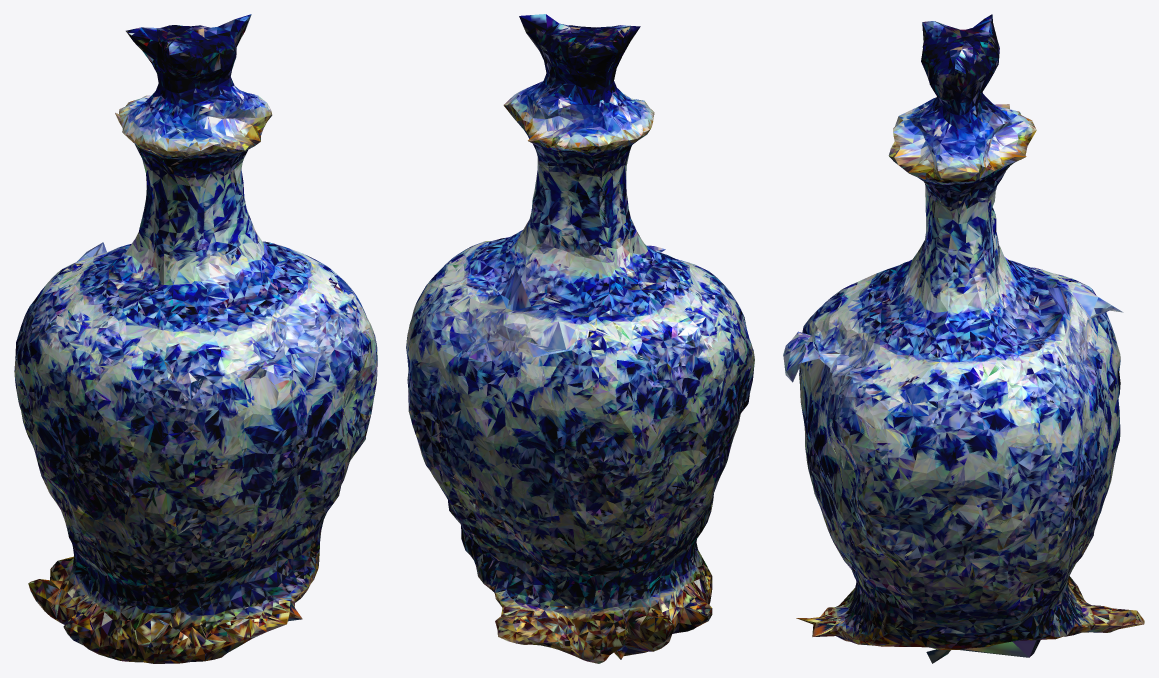
File: porcelain-scribble.glb
3 views of the same model, side by side, from view 1: azimuth 30°, elevation 25°; view 2: azimuth 150°, elevation 25°; view 3: azimuth 270°, elevation 25° (orthographic). The views are drawn at different scales.
Visible parts, largest first — view 1: extracted_mesh; view 2: extracted_mesh; view 3: extracted_mesh.
Boxes of the visible parts, x1,y1,x2,y2 form: extracted_mesh: [14, 14, 377, 663]; extracted_mesh: [406, 14, 754, 663]; extracted_mesh: [783, 14, 1144, 663].
Size of the model in its own units: 0.55 by 1.05 by 0.5375.
Materials: 1 (1 with a texture image).
